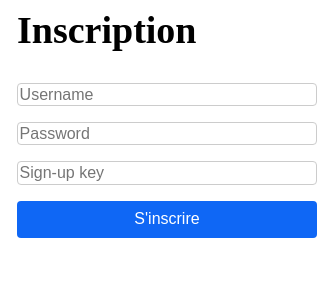
Test: Signup Component › handles API errors during signup
This screenshot has width=335, height=294.
Type "newuser" into the field with placeholder "Username". click: (167, 95)
box: [17,83,317,106]
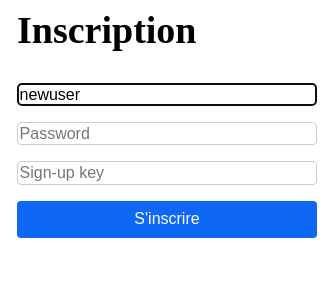
Type "password123" into the password field with placeholder "Password". click: (167, 134)
box: [17,122,317,146]
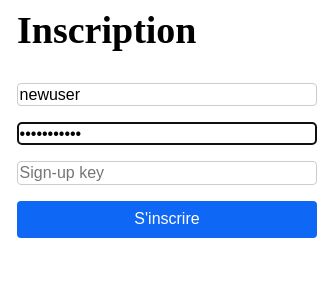
Type "wrong-key" into the password field with placeholder "Sign-up key". click: (167, 173)
box: [17,161,317,185]
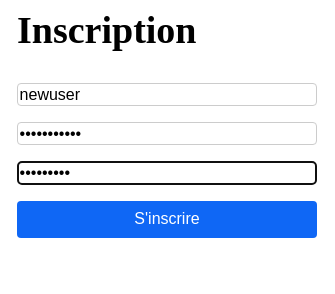
Click the button "S'inscrire". click: click(167, 219)
box: [17,201,317,238]
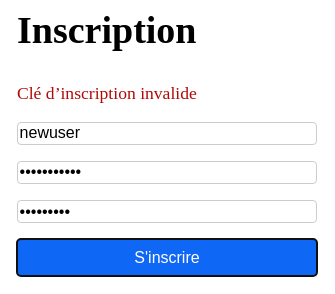
Expected: the text "Clé d’inscription invalide" is shown, [17,83,197,103]
